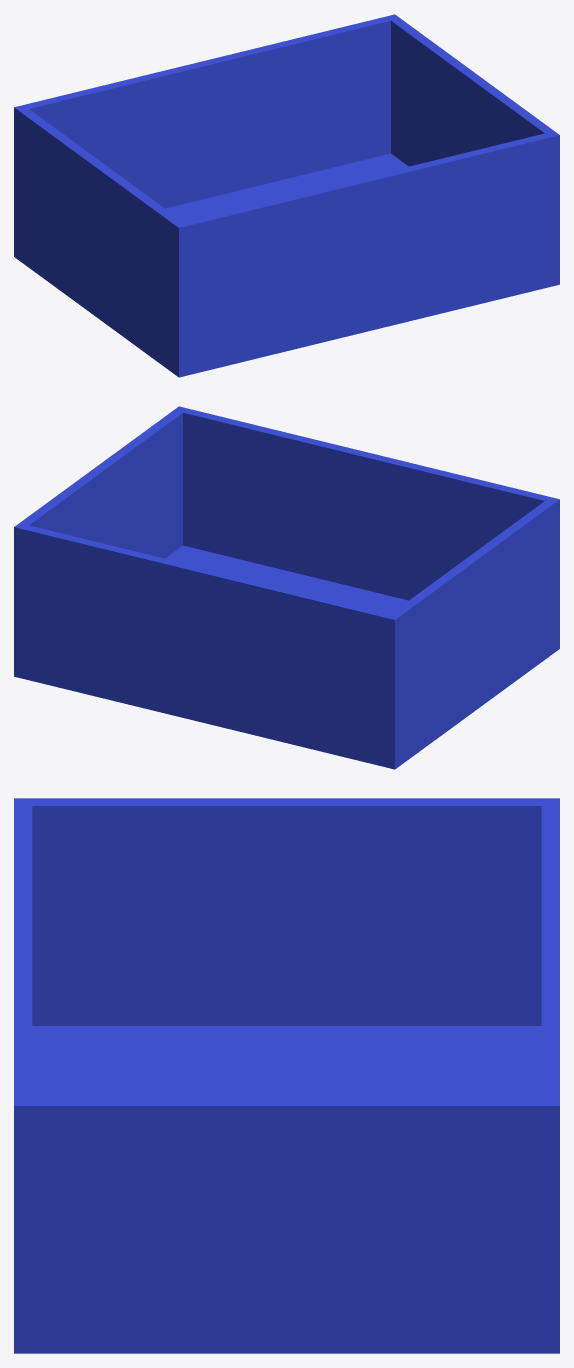
File: Tote.fbx
3 renders of one model, top to bottom at view 1: azimuth 30°, elevation 25°; view 2: azimuth 150°, elevation 25°; view 3: azimuth 270°, elevation 25°, orthographic. The views are drawn at different scales.
Parts seen in each view (by area): view 1: Tote; view 2: Tote; view 3: Tote.
Boxes of the visible parts, x1=… form: Tote: x1=14, y1=14, x2=559, y2=377; Tote: x1=14, y1=406, x2=559, y2=769; Tote: x1=14, y1=798, x2=559, y2=1353.
Size of the model in its own units: 40 by 15 by 30.
